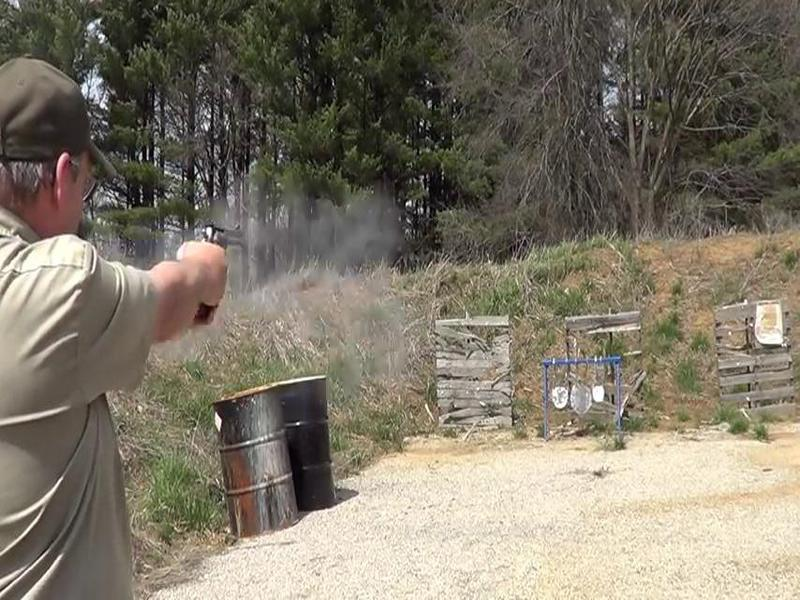Revolver: (184, 214, 257, 272)
